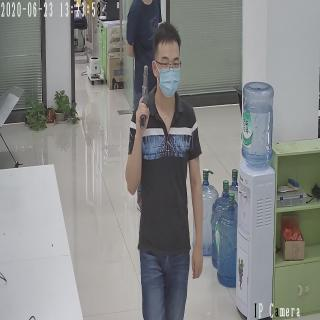gun: (136, 61, 150, 129)
